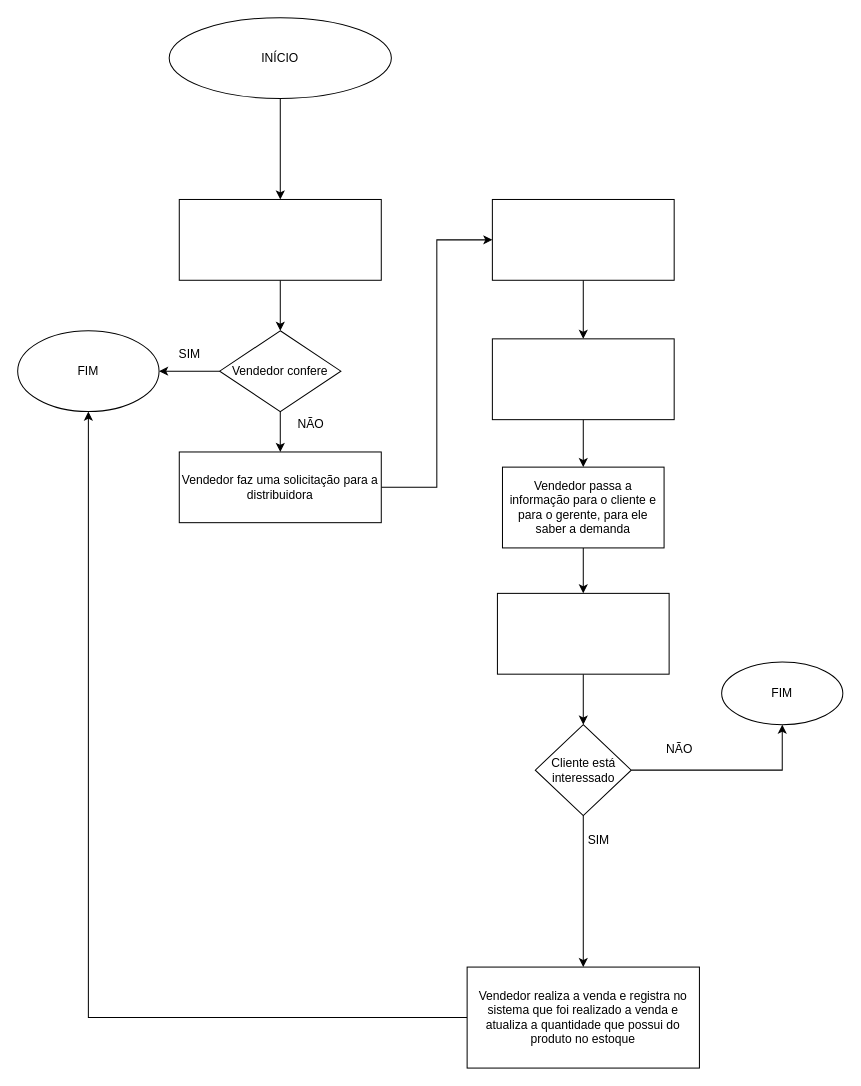
This 861x1086 diagram has some shape labels left out. The box of each missing label's shape, as (x1, y1, x2, y2) in pixels:
Cliente pergunta ao vendedor se possui item 'x' na loja: (178, 198, 381, 280)
Distribuidora recebe o pedido e cria ordem de seviço: (491, 198, 674, 280)
Vendedor oferece outros produtos da loja para o cliente: (496, 592, 669, 674)
Verifica quantos dias vai demorar para chegar e repassa para o vendedor: (491, 338, 674, 420)
